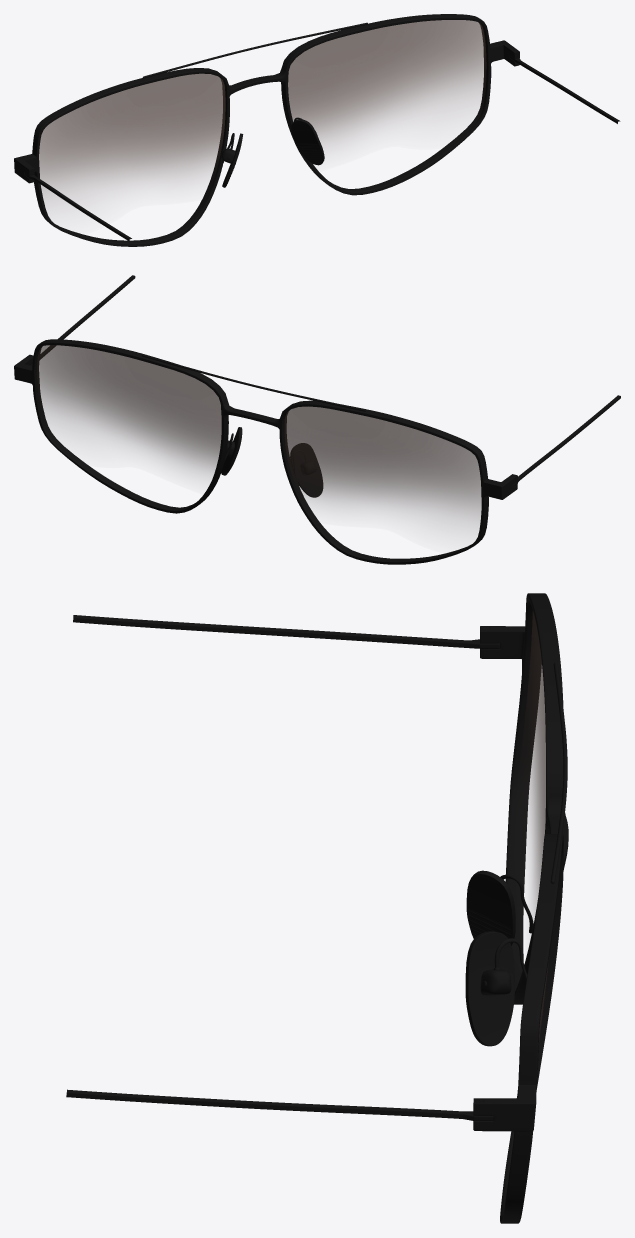
3 renders of one model, top to bottom at view 1: azimuth 30°, elevation 25°; view 2: azimuth 150°, elevation 25°; view 3: azimuth 270°, elevation 25°, orthographic. The views are drawn at different scales.
Visible parts, largest first — view 1: frame, temple_left, temple_right; view 2: frame, temple_right, temple_left; view 3: frame, temple_right, temple_left.
Part boxes in pixels (x1,y1,x2,y2): frame: (14,14,519,246); temple_left: (510,56,620,123); temple_right: (24,173,131,241); frame: (14,339,517,564); temple_right: (512,395,620,487); temple_left: (30,275,135,365); frame: (465,593,568,1223); temple_right: (73,615,500,648); temple_left: (66,1089,493,1120).
Bounding box in the file's own units: 0.1457 × 0.0453 × 0.0646.
2 materials, 2 textured.
